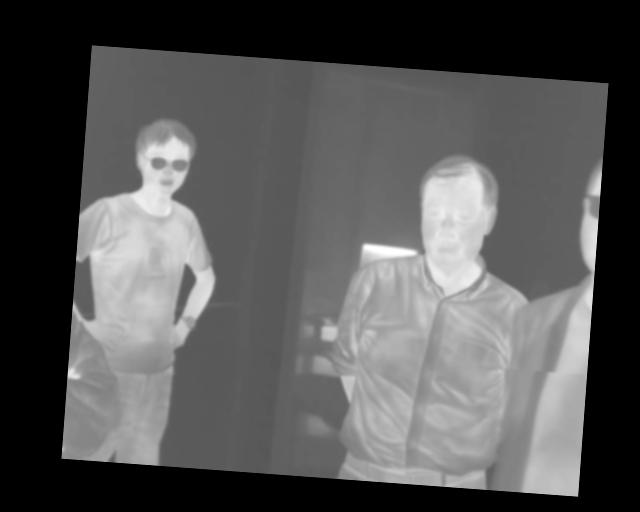face: (415, 150, 502, 269), (130, 115, 197, 198)
